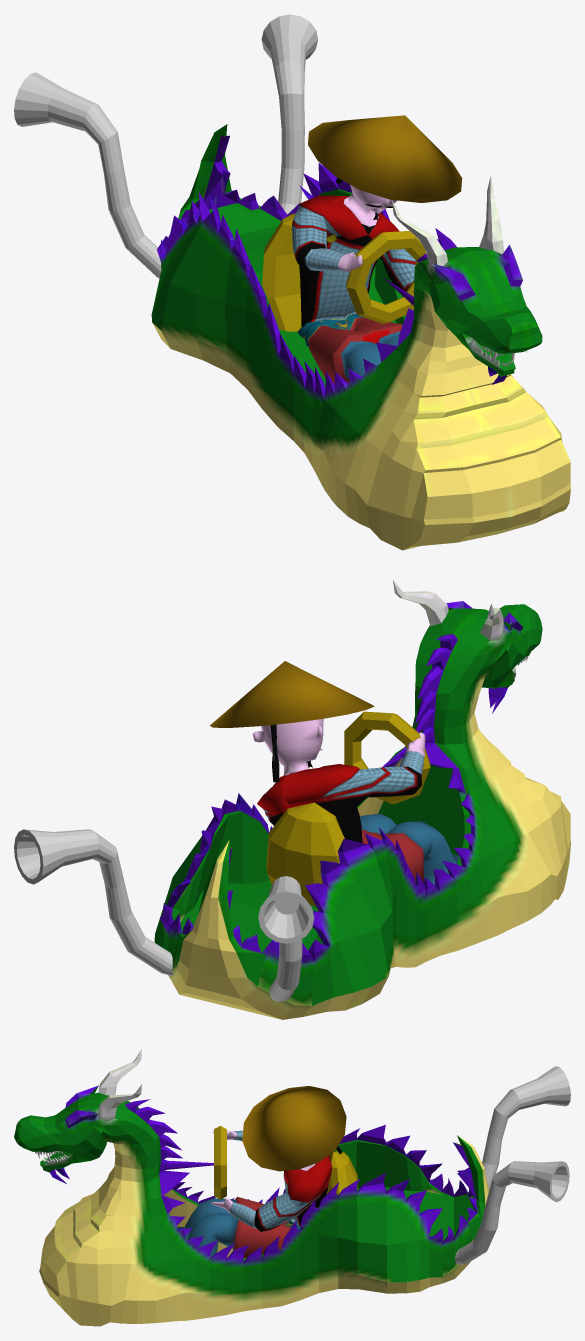
The model's file is ChinoGiroIzq_000189.obj.
3 views of the same model, one above another, from view 1: azimuth 30°, elevation 25°; view 2: azimuth 150°, elevation 25°; view 3: azimuth 270°, elevation 25° (orthographic). The views are drawn at different scales.
Parts seen in each view (by area): view 1: ChasisChino_ChasisChinoH, Chino_ChinoH, Tubos_TubosH, AsientoChinoMalla_AsientoChinoMH, volanteChino_VolanteChinoH; view 2: ChasisChino_ChasisChinoH, Chino_ChinoH, Tubos_TubosH, AsientoChinoMalla_AsientoChinoMH, volanteChino_VolanteChinoH; view 3: ChasisChino_ChasisChinoH, Chino_ChinoH, Tubos_TubosH, volanteChino_VolanteChinoH, AsientoChinoMalla_AsientoChinoMH.
Part boxes in pixels (<box>): ChasisChino_ChasisChinoH: <box>151,124,570,550</box>; Chino_ChinoH: <box>291,115,462,383</box>; Tubos_TubosH: <box>14,14,317,278</box>; AsientoChinoMalla_AsientoChinoMH: <box>262,213,301,331</box>; volanteChino_VolanteChinoH: <box>346,231,425,323</box>; ChasisChino_ChasisChinoH: <box>154,580,570,1019</box>; Chino_ChinoH: <box>210,661,459,884</box>; Tubos_TubosH: <box>14,829,314,1001</box>; AsientoChinoMalla_AsientoChinoMH: <box>266,802,344,906</box>; volanteChino_VolanteChinoH: <box>344,711,430,804</box>; ChasisChino_ChasisChinoH: <box>14,1049,489,1326</box>; Chino_ChinoH: <box>177,1086,346,1257</box>; Tubos_TubosH: <box>455,1066,570,1264</box>; volanteChino_VolanteChinoH: <box>214,1126,226,1199</box>; AsientoChinoMalla_AsientoChinoMH: <box>326,1151,357,1194</box>.
Bounding box in the file's own units: 6.15 × 6.07 × 13.3.
